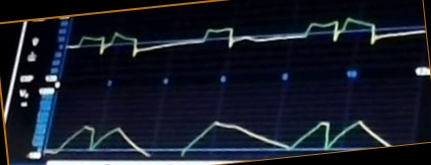Double_Triggering Flow: (74, 17, 422, 66)
Double_Triggering Volume: (52, 100, 391, 159)
